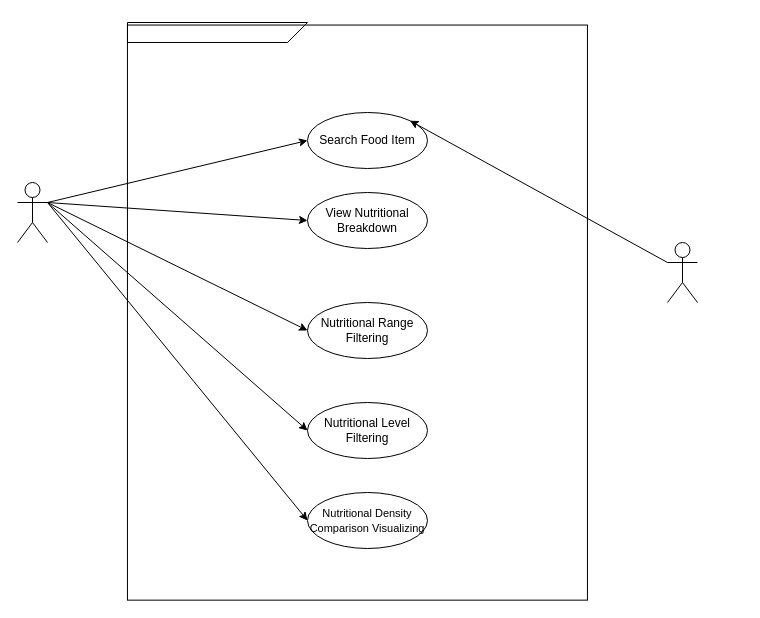
Image size: 760x618. Some labels were removed from this diagram. Each missing label, with the box of its shape:
External Database/API: (666, 242, 698, 302)
Nutrient Analyzer System: (126, 22, 308, 42)
User: (16, 182, 48, 242)
